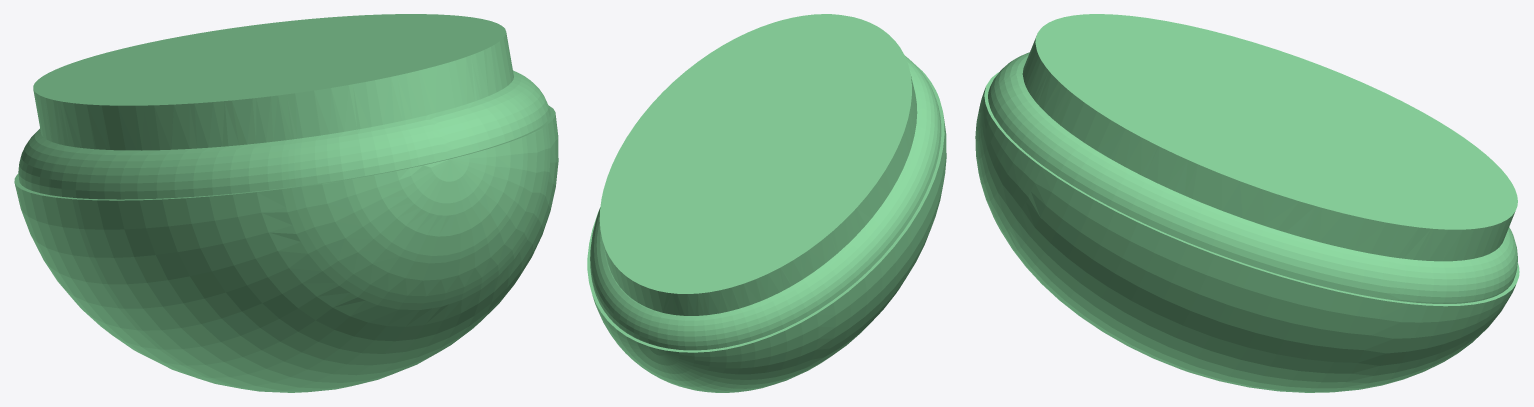
3 views of the same model, side by side, from view 1: azimuth 30°, elevation 25°; view 2: azimuth 150°, elevation 25°; view 3: azimuth 270°, elevation 25° (orthographic). The views are drawn at different scales.
Parts seen in each view (by area): view 1: BioTac-SP-Collision_mesh_Asm_Distal_00; view 2: BioTac-SP-Collision_mesh_Asm_Distal_00; view 3: BioTac-SP-Collision_mesh_Asm_Distal_00.
Part boxes in pixels (<box>): BioTac-SP-Collision_mesh_Asm_Distal_00: <box>14,14,558,392</box>; BioTac-SP-Collision_mesh_Asm_Distal_00: <box>587,14,946,392</box>; BioTac-SP-Collision_mesh_Asm_Distal_00: <box>975,14,1519,392</box>.
Size of the model in its own units: 0.0199 by 0.0183 by 0.0272.
